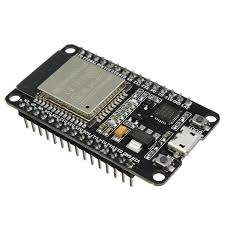ESP32-WROOM: (0, 35, 225, 203)
